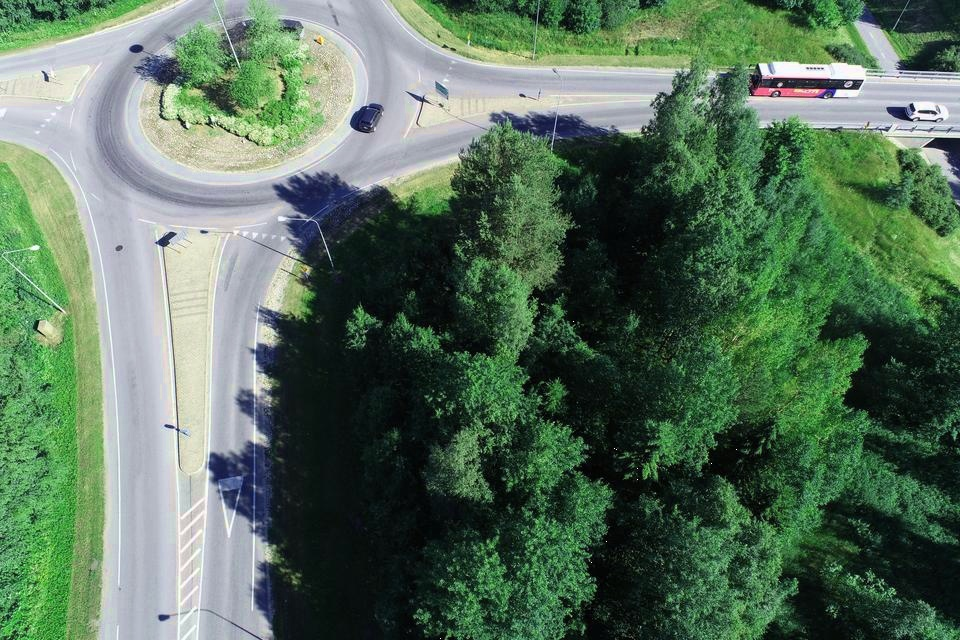roundabout: (30, 0, 488, 294)
